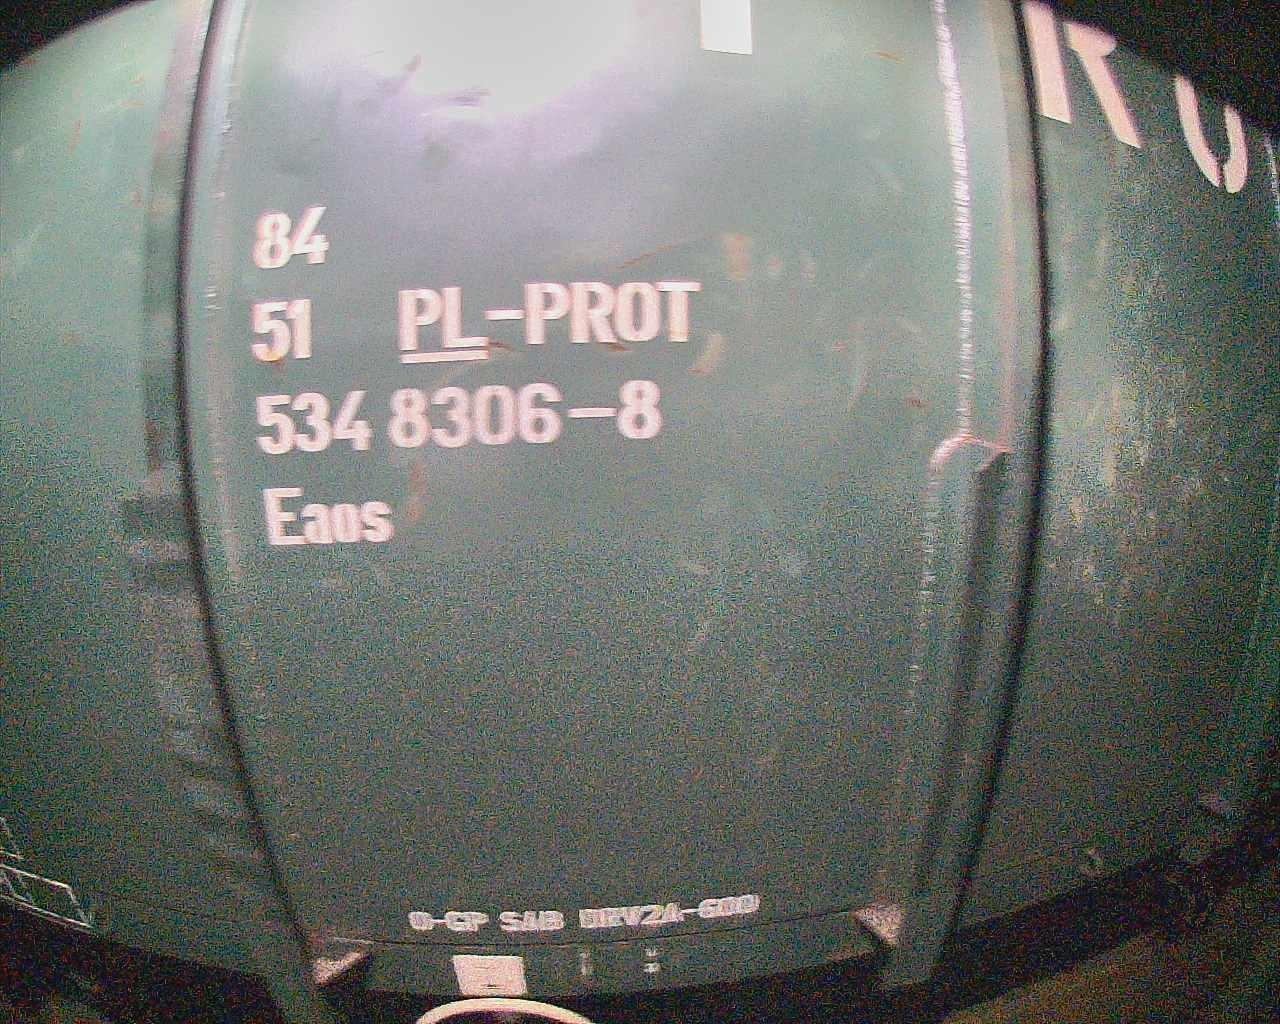UIC: (253, 202, 701, 551)
